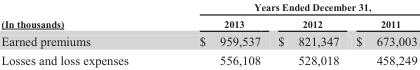table: (0, 1, 416, 66)
table column: (0, 1, 163, 66), (163, 1, 268, 66), (268, 1, 346, 66), (346, 1, 416, 66)
table column header: (0, 1, 416, 31)
table row: (0, 31, 416, 50), (0, 14, 416, 31), (0, 50, 416, 66), (0, 1, 416, 14)
table spanning cell: (0, 1, 163, 31), (163, 1, 416, 14)
